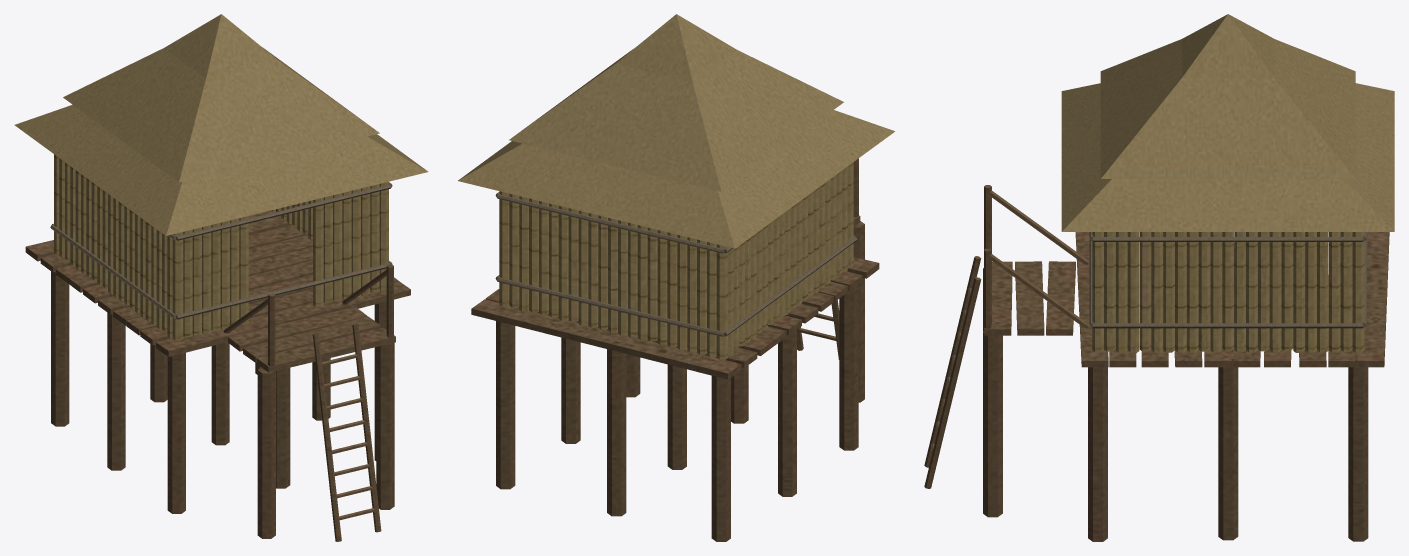
The model's file is chatka.glb.
3 views of the same model, side by side, from view 1: azimuth 30°, elevation 25°; view 2: azimuth 150°, elevation 25°; view 3: azimuth 270°, elevation 25° (orthographic). The views are drawn at different scales.
Visible parts, largest first — view 1: chatka_strzecha, chatka_drewno, chatka_bambus, chatka_lina; view 2: chatka_strzecha, chatka_bambus, chatka_drewno, chatka_lina; view 3: chatka_strzecha, chatka_drewno, chatka_bambus, chatka_lina.
Part boxes in pixels (bbox=[...]): chatka_strzecha: bbox=[14, 14, 428, 235]; chatka_drewno: bbox=[25, 210, 410, 541]; chatka_bambus: bbox=[54, 154, 388, 340]; chatka_lina: bbox=[50, 182, 392, 319]; chatka_strzecha: bbox=[458, 14, 894, 248]; chatka_bambus: bbox=[499, 162, 853, 359]; chatka_drewno: bbox=[471, 158, 879, 541]; chatka_lina: bbox=[495, 192, 857, 336]; chatka_strzecha: bbox=[1061, 14, 1394, 231]; chatka_drewno: bbox=[924, 185, 1389, 541]; chatka_bambus: bbox=[1092, 232, 1364, 353]; chatka_lina: bbox=[1089, 232, 1366, 328].
Size of the model in its own units: 3.32 by 5.17 by 4.7.
4 materials, 4 textured.
